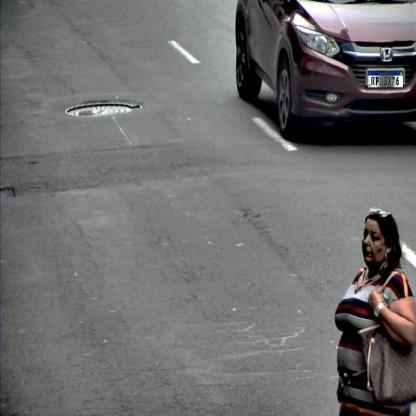PlacaM: (368, 71, 404, 88)
